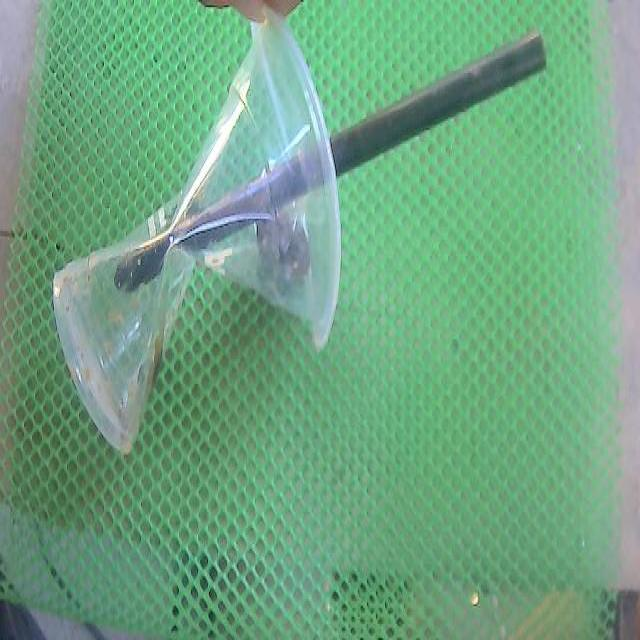bottle: (52, 16, 341, 452)
